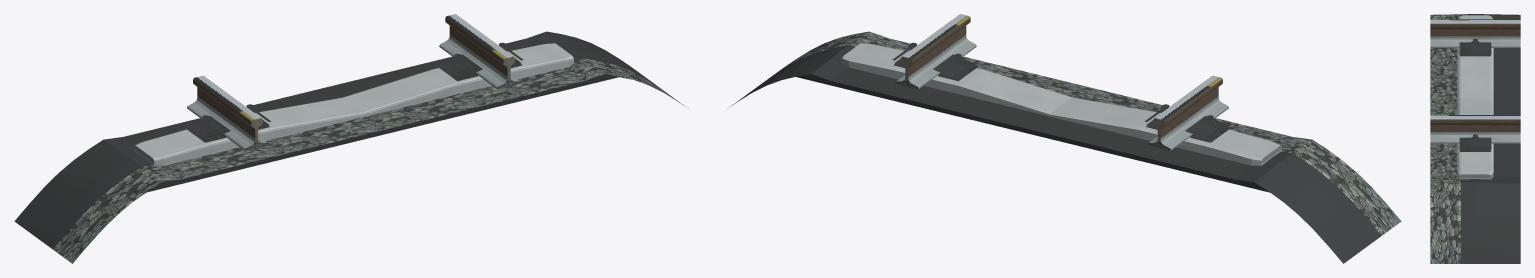
Rendered from rail_mid.obj.
3 renders of one model, left to right at view 1: azimuth 30°, elevation 25°; view 2: azimuth 150°, elevation 25°; view 3: azimuth 270°, elevation 25°, orthographic. The views are drawn at different scales.
Visible parts, largest first — view 1: ballast, sleeper, rail_left, rail_right, fastener_left, fastener_right; view 2: ballast, sleeper, rail_left, rail_right, fastener_left, fastener_right; view 3: ballast, sleeper, rail_left, rail_right, fastener_left, fastener_right.
Boxes of the visible parts, x1,y1,x2,y2 form: ballast: (14,31,688,263); sleeper: (134,43,573,165); rail_left: (187,75,266,150); rail_right: (439,14,519,88); fastener_left: (184,104,270,142); fastener_right: (437,42,523,80); ballast: (727,31,1401,263); sleeper: (842,43,1281,165); rail_left: (1149,75,1228,150); rail_right: (896,14,976,88); fastener_left: (1145,104,1231,142); fastener_right: (892,42,978,80); ballast: (1430,14,1520,263); sleeper: (1457,15,1493,179); rail_left: (1430,19,1520,47); rail_right: (1430,115,1520,143); fastener_left: (1459,38,1491,56); fastener_right: (1459,134,1491,151).
Bounding box in the file's own units: 3.7 × 0.5683 × 0.6.
